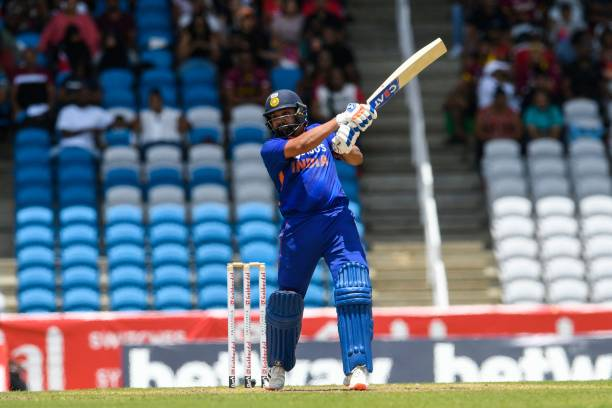bottom left: (431, 32, 445, 46)
bottom right: (441, 45, 453, 57)
top left: (362, 95, 372, 105)
top right: (370, 105, 377, 112)
